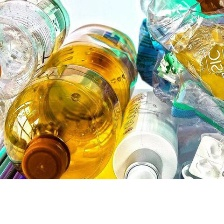bottle: (1, 17, 146, 181), (135, 0, 224, 105), (107, 86, 192, 189), (0, 0, 76, 105)
